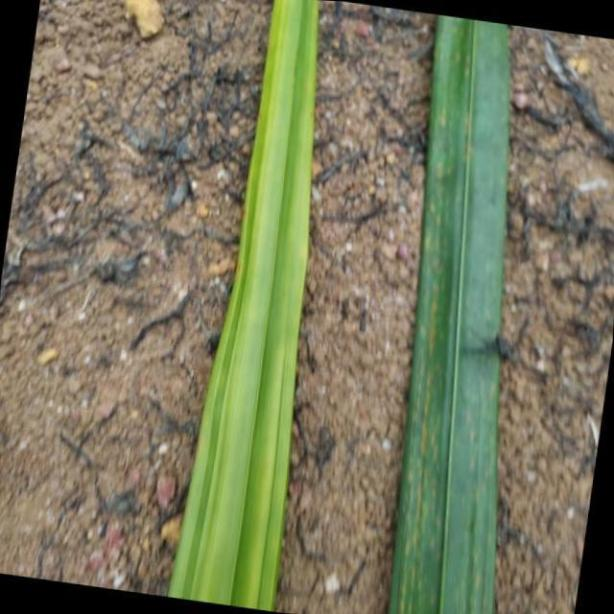nitrogen: (164, 0, 316, 614), (385, 0, 508, 614)
